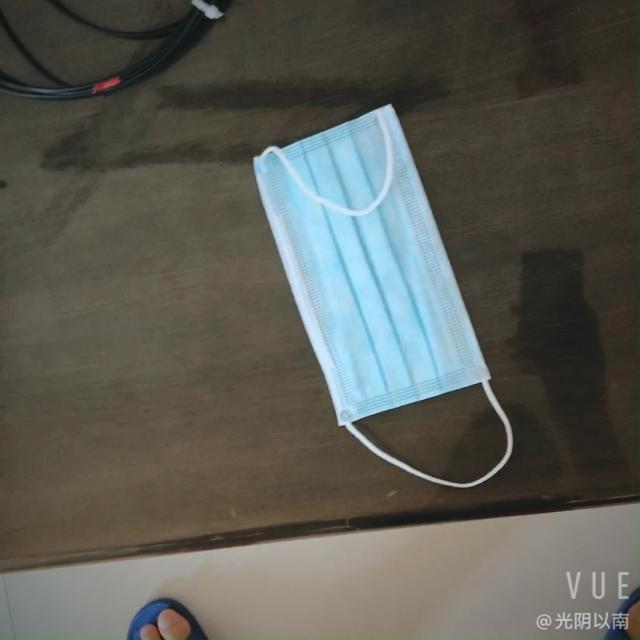face mask: (263, 106, 531, 447)
